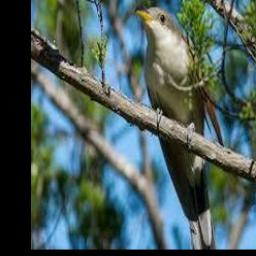Cuckoo: (134, 6, 225, 250)
